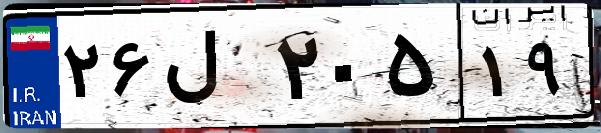0: (330, 28, 385, 110)
1: (475, 38, 525, 113)
2: (270, 28, 330, 110), (57, 26, 110, 100)
5: (385, 28, 445, 110)
6: (110, 28, 158, 98)
9: (525, 38, 570, 115)
ل: (158, 20, 270, 120)
